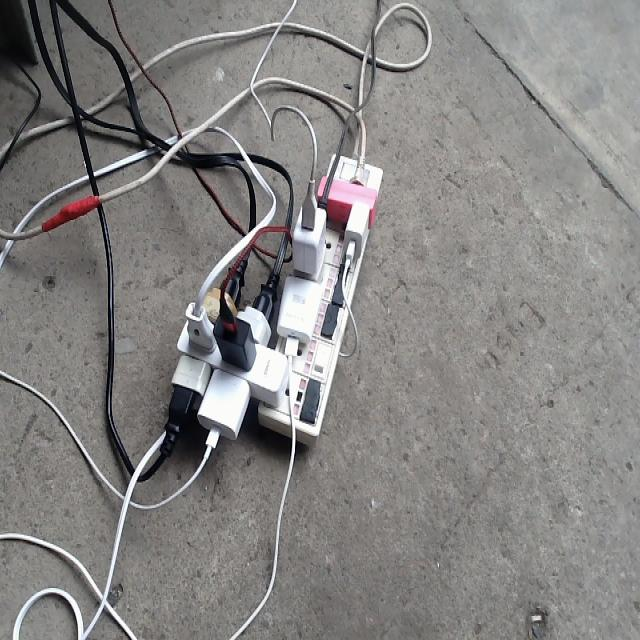-: (164, 151, 381, 464)
